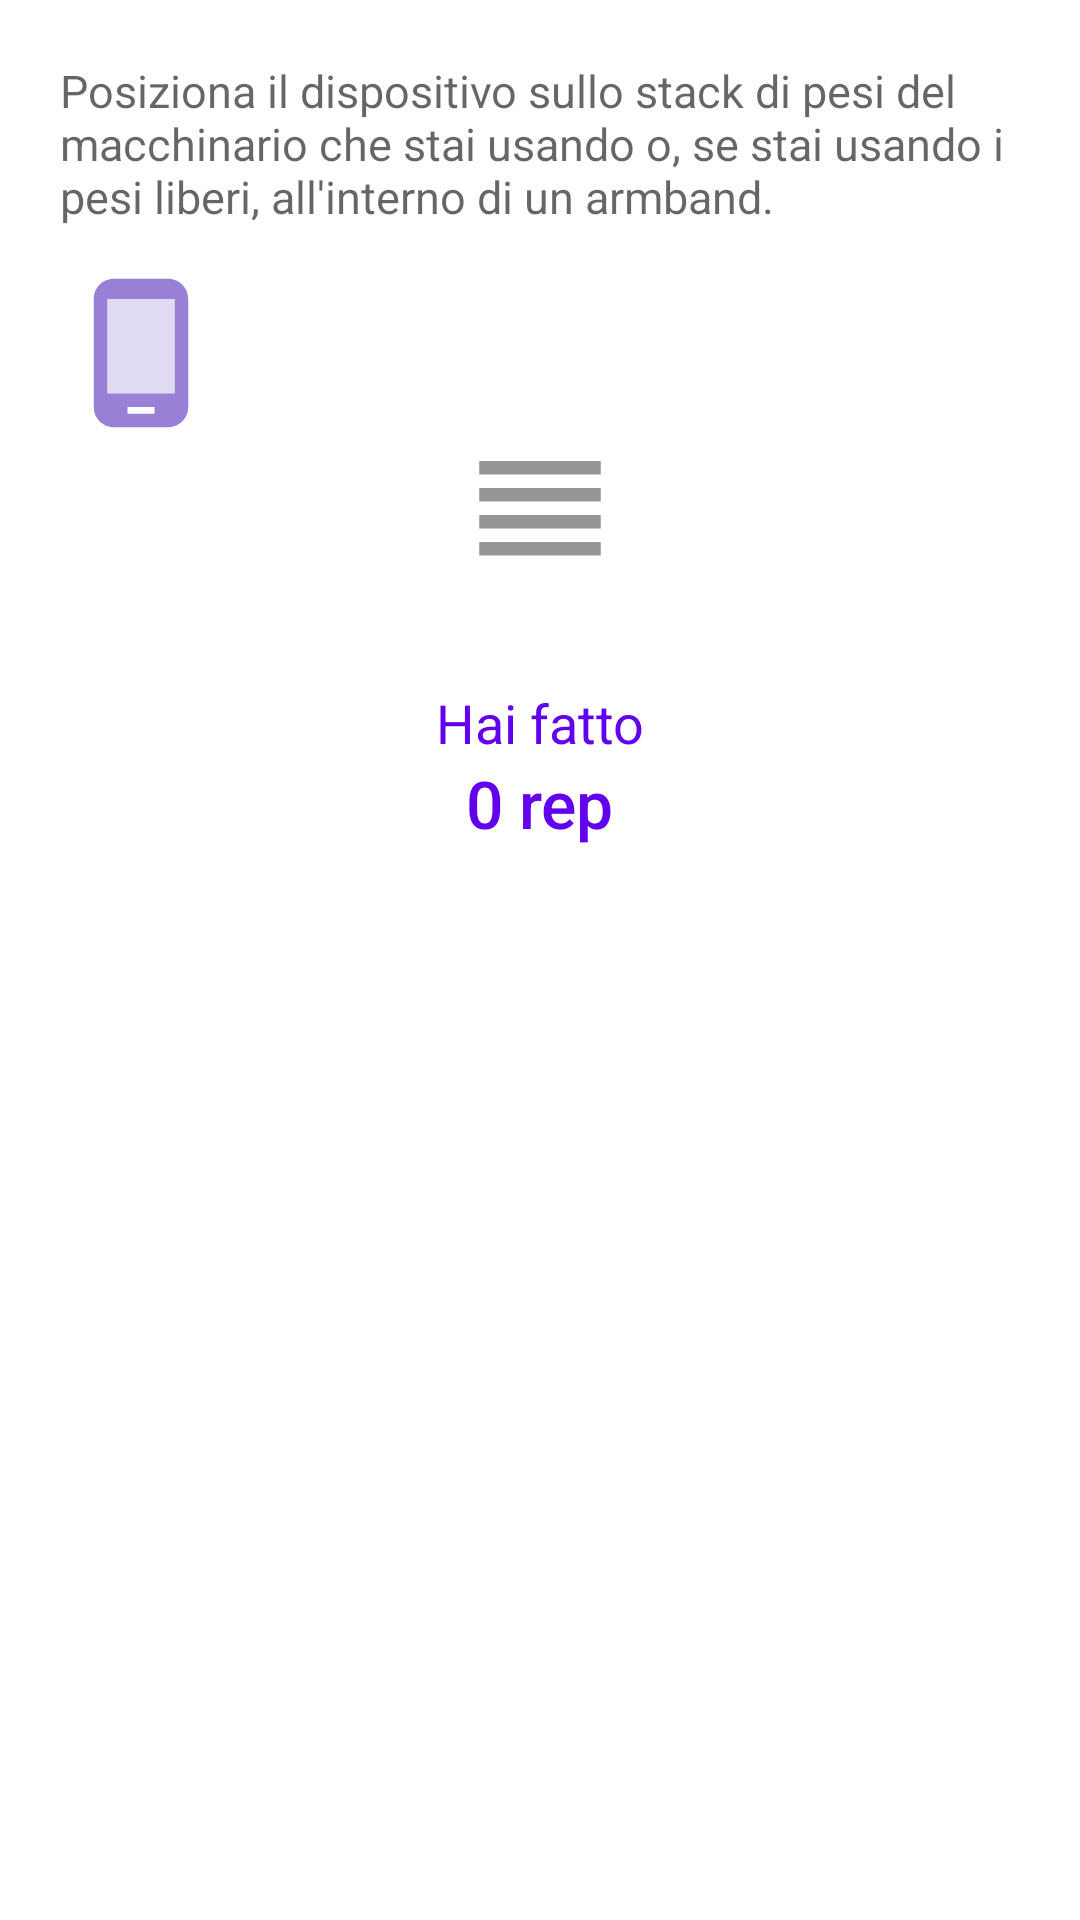

Icon click points for this 1080 × 1920 phone screenshot, format (x=x, y=y):
phone android: (x=141, y=353)
weight stack: (x=540, y=508)
